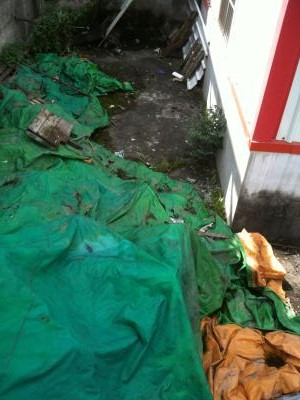plastic_bag: (1, 226, 300, 400), (1, 54, 151, 238)
